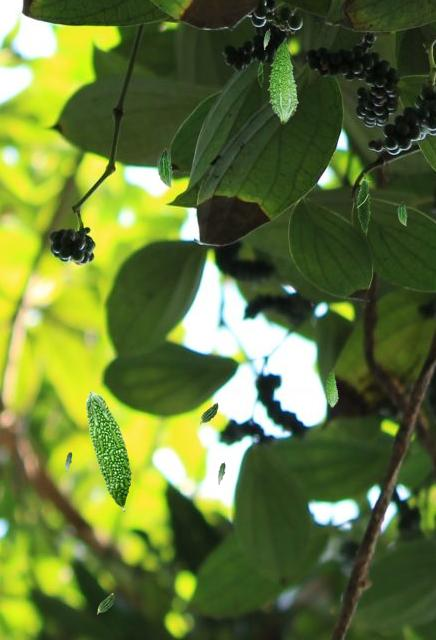ampalaya: (85, 391, 132, 512), (267, 37, 299, 124), (355, 172, 372, 235), (156, 147, 173, 188), (324, 368, 339, 408), (199, 402, 218, 425), (96, 593, 114, 614), (397, 200, 407, 226), (256, 60, 264, 88), (217, 460, 225, 485), (64, 450, 72, 473), (263, 28, 270, 50)
